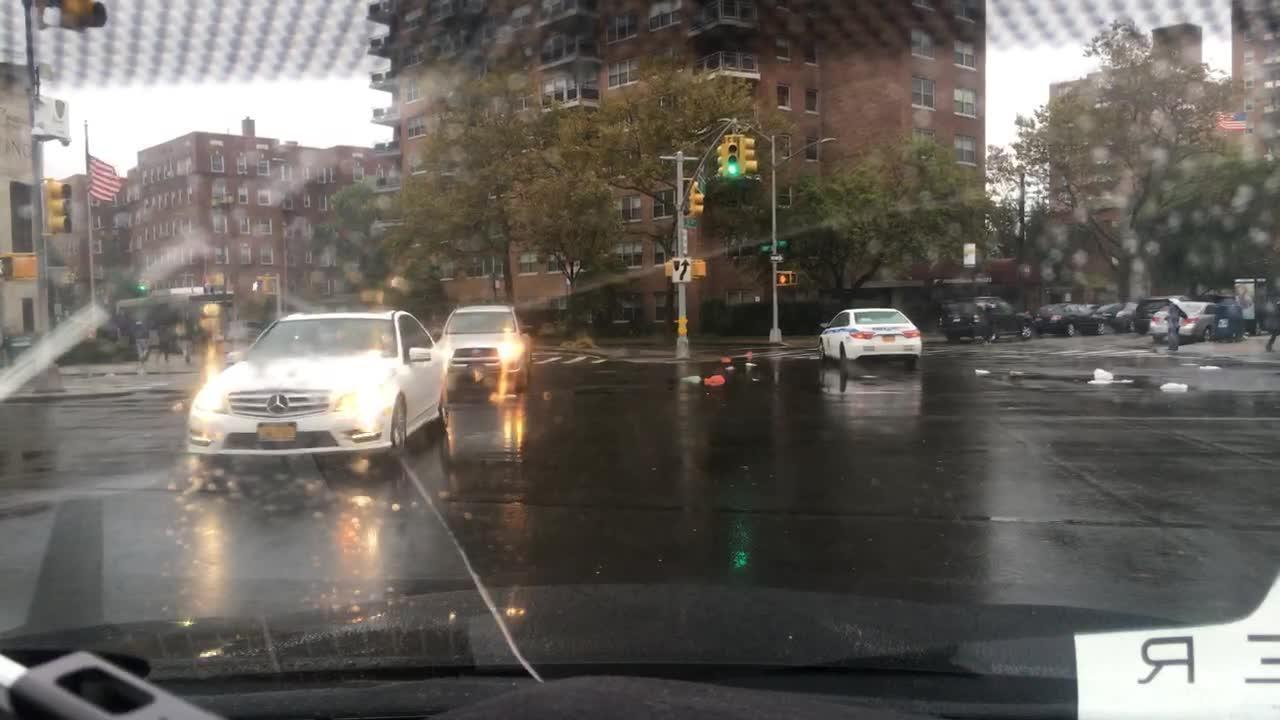Mercedes: (266, 393, 291, 415)
